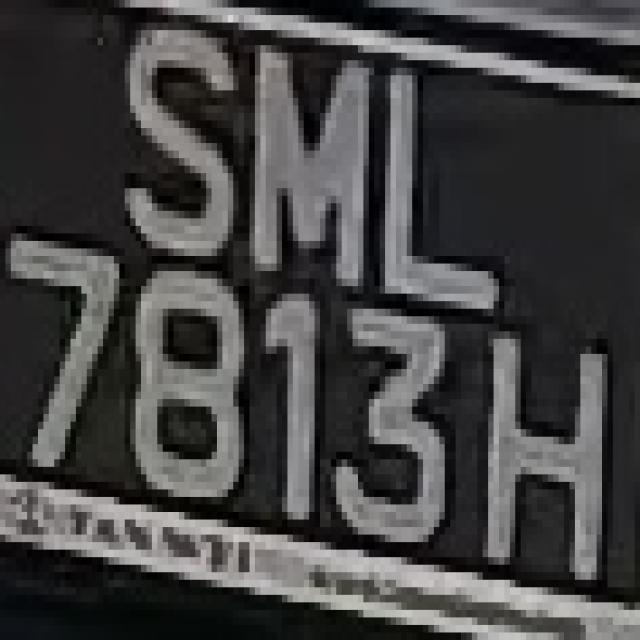1: (244, 248, 336, 588)
3: (336, 279, 456, 557)
7: (0, 211, 125, 527)
8: (141, 233, 244, 512)
H: (466, 316, 624, 602)
L: (374, 60, 510, 324)
M: (239, 45, 374, 301)
S: (98, 0, 238, 264)
